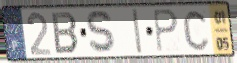2: (25, 10, 54, 57)
B: (50, 11, 81, 56)
C: (182, 8, 211, 53)
I: (130, 7, 144, 56)
P: (151, 8, 180, 54)
S: (85, 9, 119, 56)
